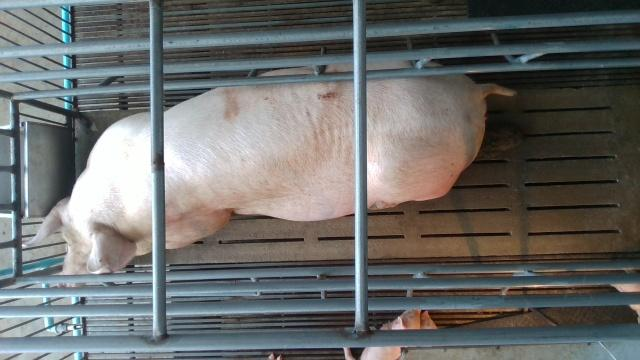piglet: (343, 309, 419, 360)
sow-sit: (24, 61, 517, 274)
